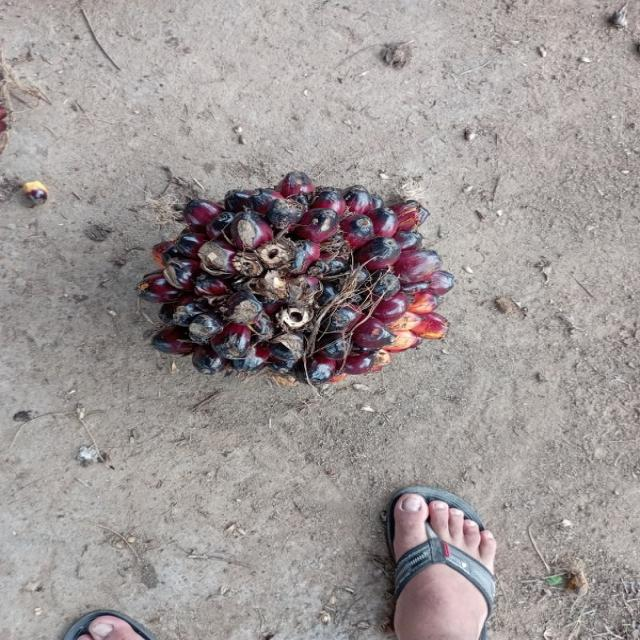fraksi 1: (77, 140, 476, 426)
